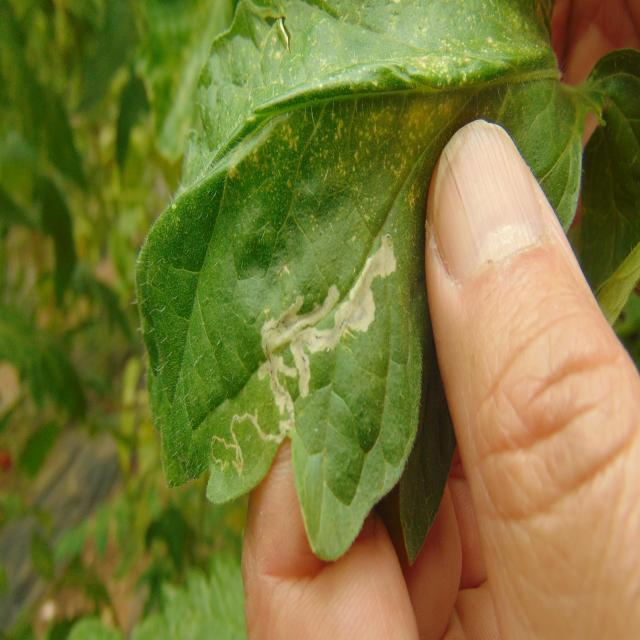Tuta absoluta: (183, 207, 423, 484)
